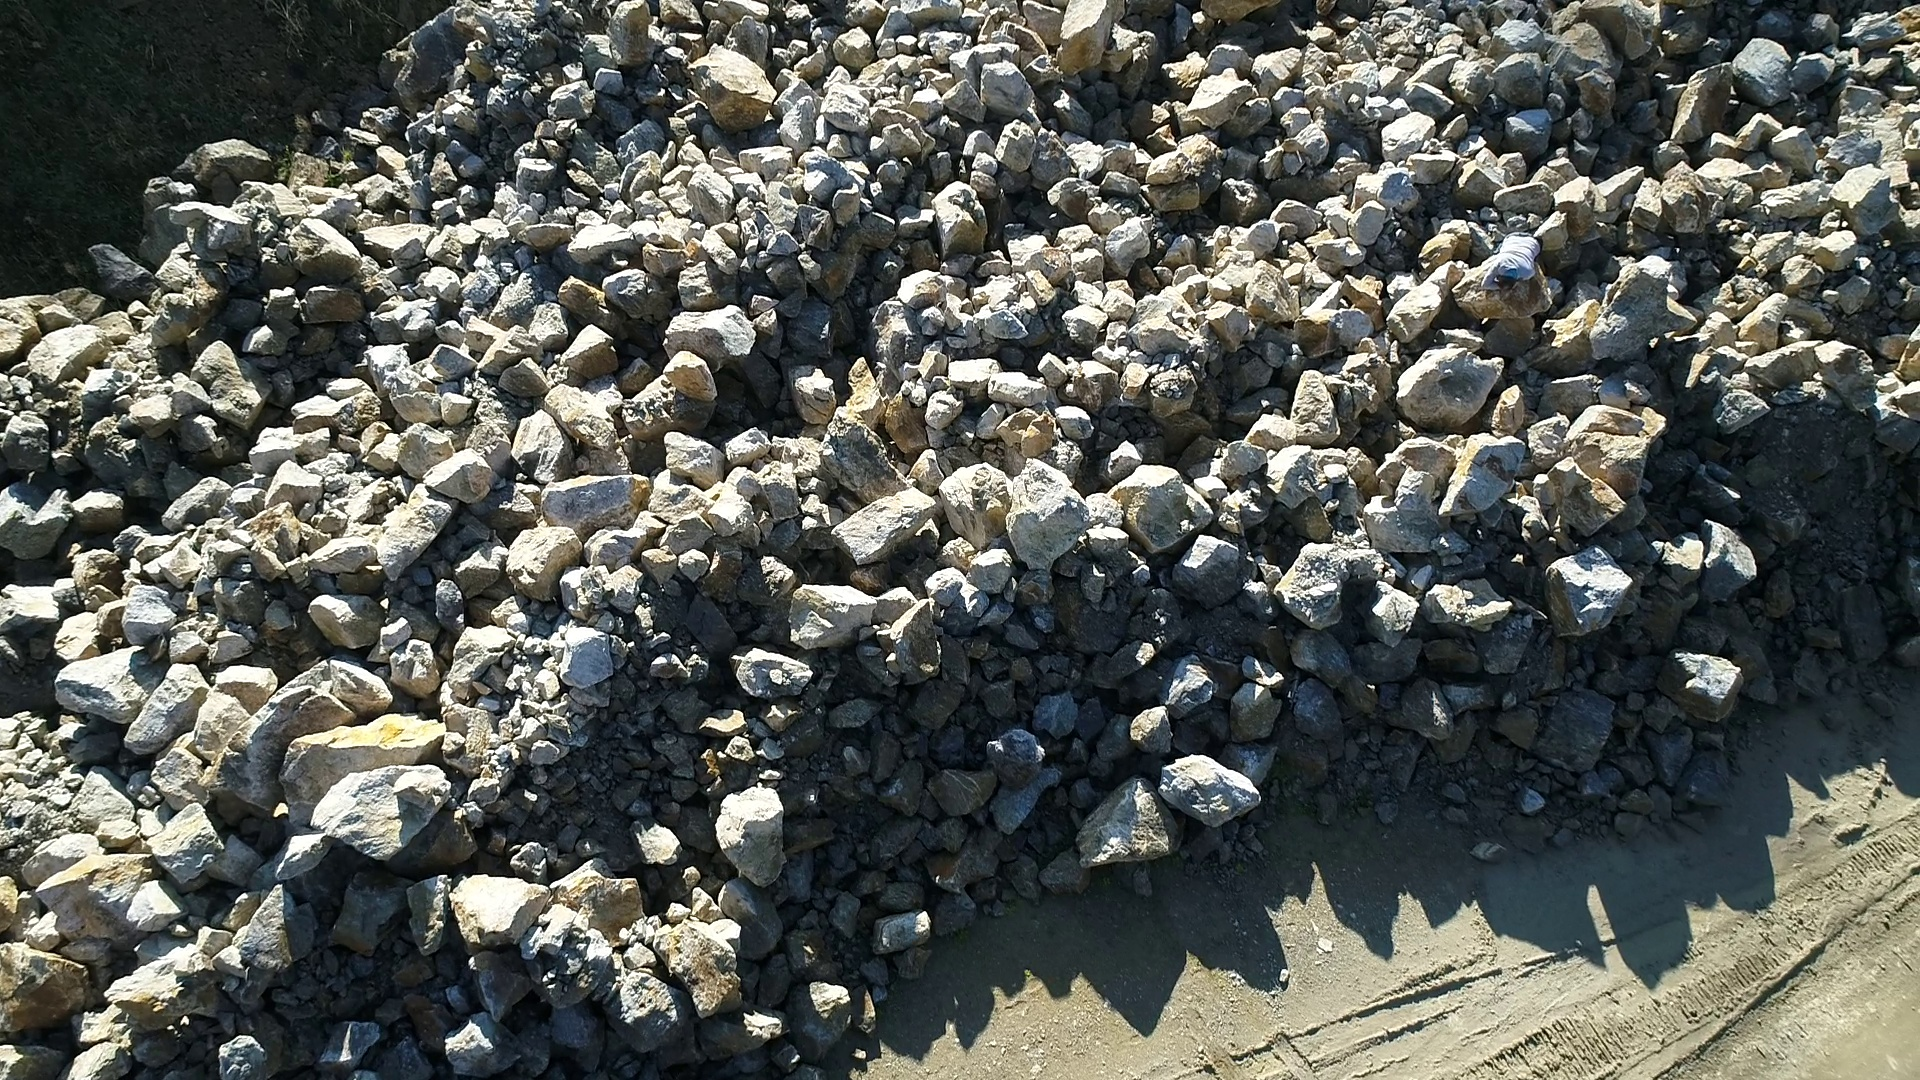person: (1474, 231, 1546, 294)
